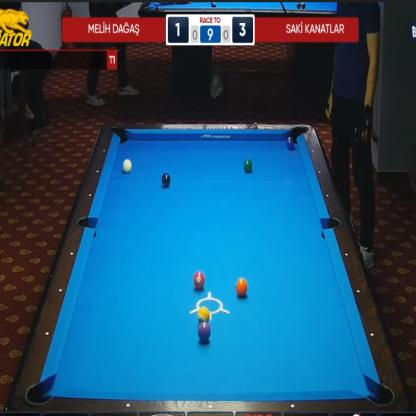Ball: (198, 322, 210, 343), (236, 278, 248, 297), (194, 271, 205, 288), (198, 307, 209, 323), (162, 173, 171, 188), (123, 159, 132, 173), (244, 158, 252, 173), (286, 137, 294, 149)
